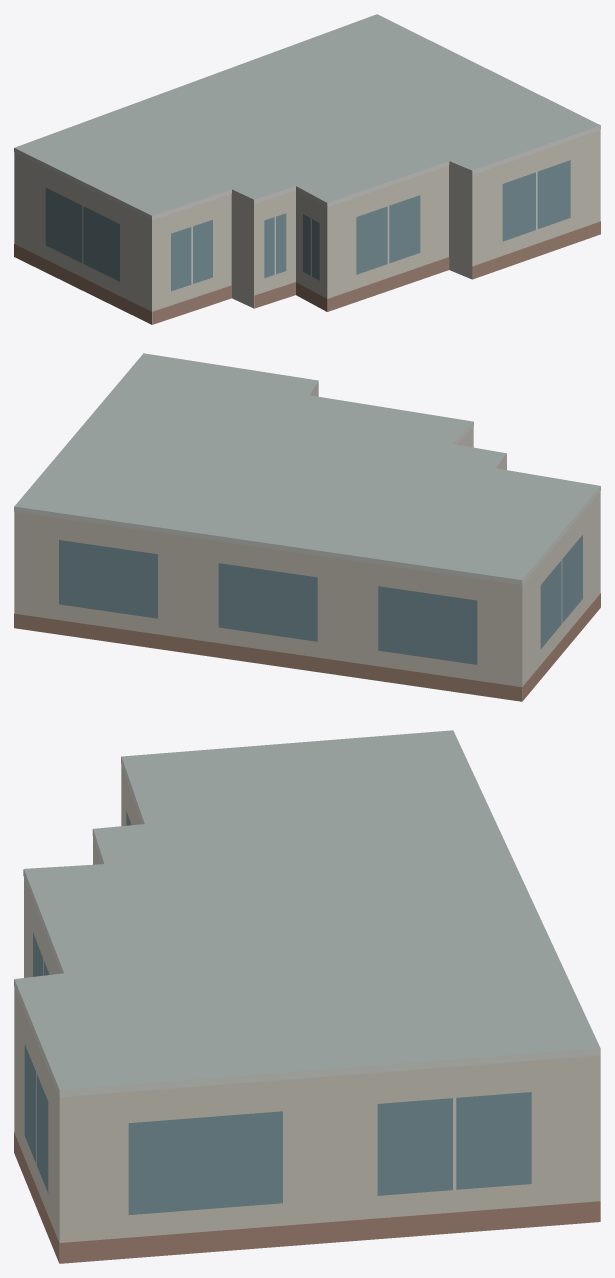
Rendered from survey-upis-32996905.glb.
The picture shows the model from 3 angles, top to bottom: view 1: azimuth 30°, elevation 25°; view 2: azimuth 150°, elevation 25°; view 3: azimuth 270°, elevation 25°; orthographic projection. The views are drawn at different scales.
Visible parts, largest first — view 1: survey-upis-32996905.tmp; view 2: survey-upis-32996905.tmp; view 3: survey-upis-32996905.tmp.
Part boxes in pixels (left/top/right/bottom): survey-upis-32996905.tmp: left=14, top=14, right=600, bottom=324; survey-upis-32996905.tmp: left=14, top=353, right=600, bottom=701; survey-upis-32996905.tmp: left=14, top=730, right=600, bottom=1263.
Bounding box in the file's own units: 13.57 × 3.05 × 9.35.
